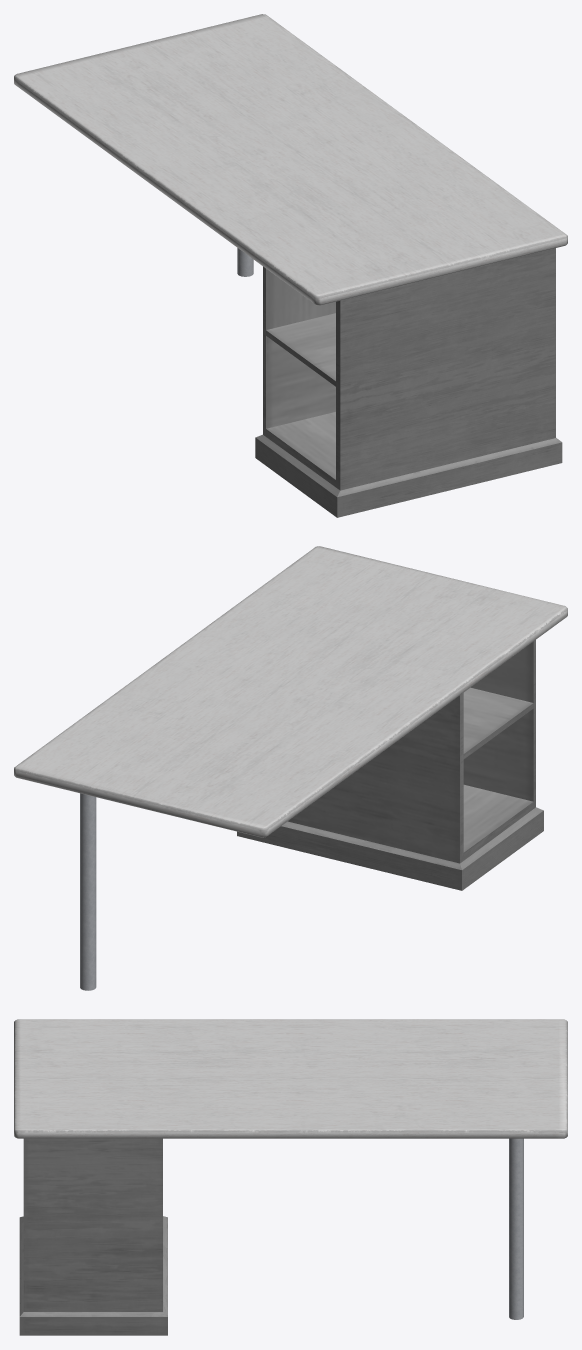
The model's file is SM_WorkingTable_A2.fbx.
3 renders of one model, top to bottom at view 1: azimuth 30°, elevation 25°; view 2: azimuth 150°, elevation 25°; view 3: azimuth 270°, elevation 25°, orthographic. The views are drawn at different scales.
Visible parts, largest first — view 1: SM_WorkingTable_A2; view 2: SM_WorkingTable_A2; view 3: SM_WorkingTable_A2.
Part boxes in pixels (bbox=[...]): SM_WorkingTable_A2: bbox=[14, 14, 567, 517]; SM_WorkingTable_A2: bbox=[14, 546, 567, 990]; SM_WorkingTable_A2: bbox=[14, 1019, 567, 1335].
Bounding box in the file's own units: 90.89 × 190 × 78.28.
2 materials, 2 textured.
